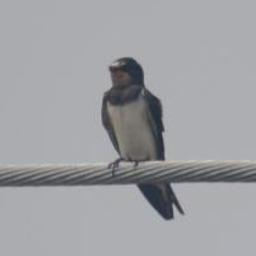Swallow: (101, 56, 185, 220)
